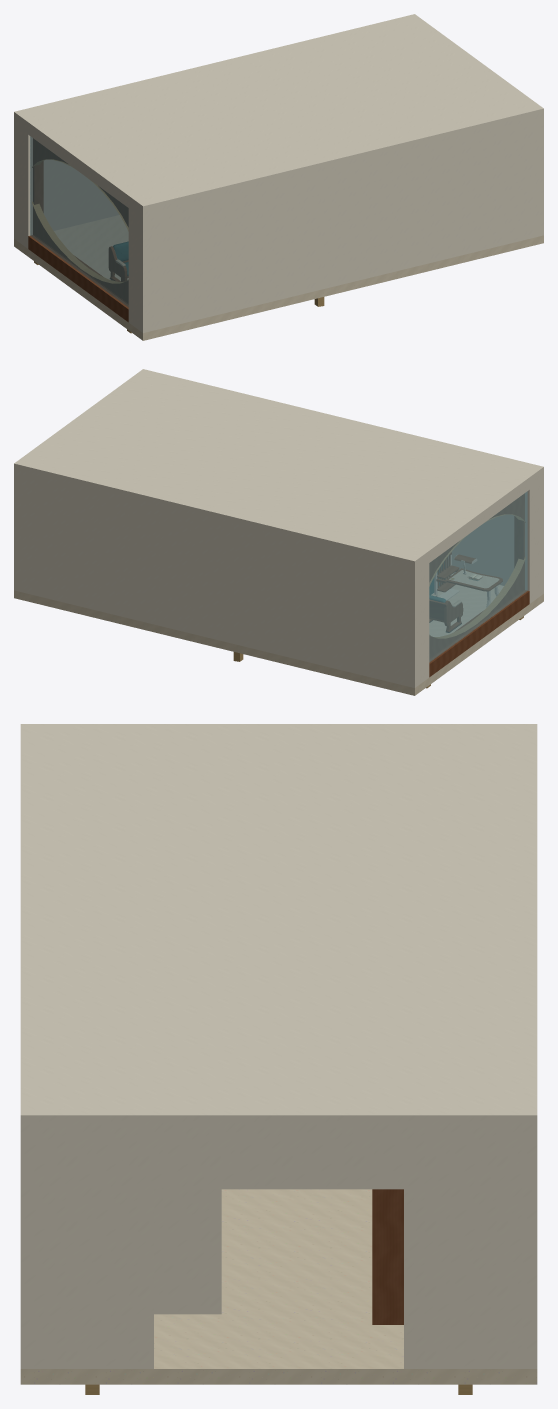
Rendered from QuietGroveBank_517_r001.glb.
3 views of the same model, one above another, from view 1: azimuth 30°, elevation 25°; view 2: azimuth 150°, elevation 25°; view 3: azimuth 270°, elevation 25° (orthographic). The views are drawn at different scales.
Visible parts, largest first — view 1: QG517_Ceiling, QG517_SouthSide, QGB517_PrivateCourtGlass, QG517_RoomFloor, QG517_NorthSide, QGB517_CourtSouthPier, QGB517_CourtNorthPier, QGB517_CourtSill, QG517_OvalWindowReveal, QG517_OvalDepthReturn, QGB517_CourtHeader, QGB517_DeepReveal_-301.2; view 2: QG517_Ceiling, QG517_NorthSide, QGB517_PrivateCourtGlass, QG517_RoomFloor, QG517_SouthSide, QGB517_CourtNorthPier, QGB517_CourtSouthPier, QGB517_CourtSill, QG517_OvalWindowReveal, QG517_OvalDepthReturn, QGB517_CourtHeader, QGB517_DeepReveal_-295.59999999999997 (+1 smaller); view 3: QG517_Ceiling, QG517_RoomFloor, QG517_EntryShoulderNorth, QG517_EntryShoulderSouth, QG517_EntryHeader, QG517_WashEntrySide, QG517_EntryPrivacyDogleg, QG517_NorthSide, QG517_SouthSide.
Boxes of the visible parts, box(x1,y1,x2,y2) form: QG517_Ceiling: box(14, 14, 543, 211); QG517_SouthSide: box(141, 114, 543, 332); QGB517_PrivateCourtGlass: box(30, 136, 128, 307); QG517_RoomFloor: box(14, 215, 543, 340); QG517_NorthSide: box(14, 117, 118, 239); QGB517_CourtSouthPier: box(128, 201, 150, 332); QGB517_CourtNorthPier: box(14, 118, 32, 248); QGB517_CourtSill: box(28, 235, 128, 322); QG517_OvalWindowReveal: box(34, 139, 128, 303); QG517_OvalDepthReturn: box(32, 159, 128, 283); QGB517_CourtHeader: box(28, 128, 128, 207); QGB517_DeepReveal_-301.2: box(33, 138, 43, 234); QG517_Ceiling: box(14, 369, 543, 566); QG517_NorthSide: box(14, 469, 416, 687); QGB517_PrivateCourtGlass: box(429, 491, 527, 662); QG517_RoomFloor: box(14, 574, 543, 695); QG517_SouthSide: box(448, 472, 543, 594); QGB517_CourtNorthPier: box(407, 556, 429, 687); QGB517_CourtSouthPier: box(525, 474, 541, 603); QGB517_CourtSill: box(429, 590, 529, 677); QG517_OvalWindowReveal: box(429, 494, 523, 658); QG517_OvalDepthReturn: box(429, 514, 525, 638); QGB517_CourtHeader: box(429, 483, 529, 562); QGB517_DeepReveal_-295.59999999999997: box(514, 493, 524, 589); QG517_Ceiling: box(20, 724, 537, 1125); QG517_RoomFloor: box(20, 1189, 537, 1384); QG517_EntryShoulderNorth: box(404, 1125, 528, 1368); QG517_EntryShoulderSouth: box(29, 1125, 153, 1368); QG517_EntryHeader: box(150, 1125, 408, 1189); QG517_WashEntrySide: box(154, 1189, 221, 1314); QG517_EntryPrivacyDogleg: box(372, 1189, 403, 1324); QG517_NorthSide: box(528, 1125, 537, 1368); QG517_SouthSide: box(20, 1125, 29, 1368).
Size of the model in its own units: 12.9 by 4.91 by 7.2.
58 materials, 43 textured.
